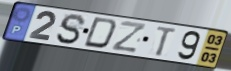2: (27, 10, 58, 43)
9: (176, 31, 201, 61)
D: (81, 16, 119, 50)
S: (54, 13, 87, 46)
T: (155, 25, 179, 57)
Z: (110, 20, 148, 54)
